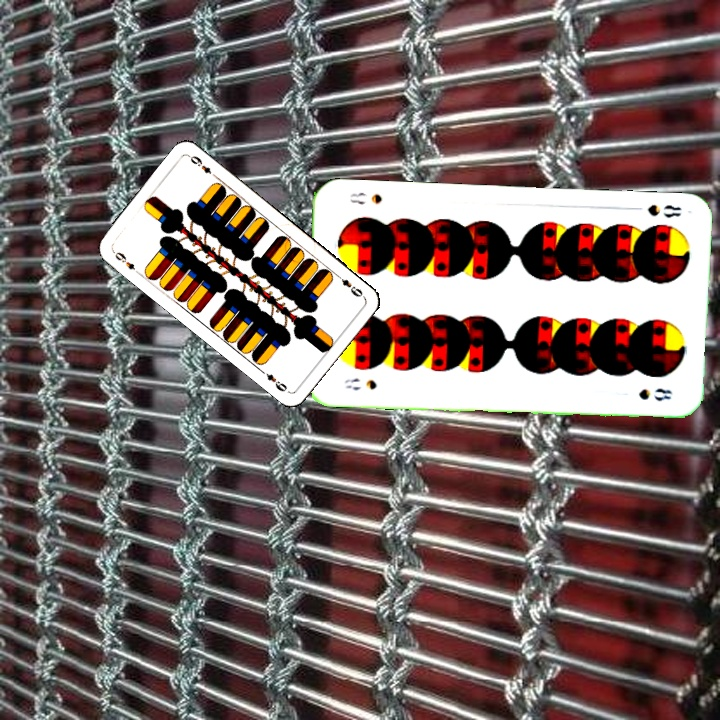E9: (332, 270, 366, 300), (109, 247, 143, 277)
S8: (627, 200, 683, 220), (340, 374, 379, 393)
